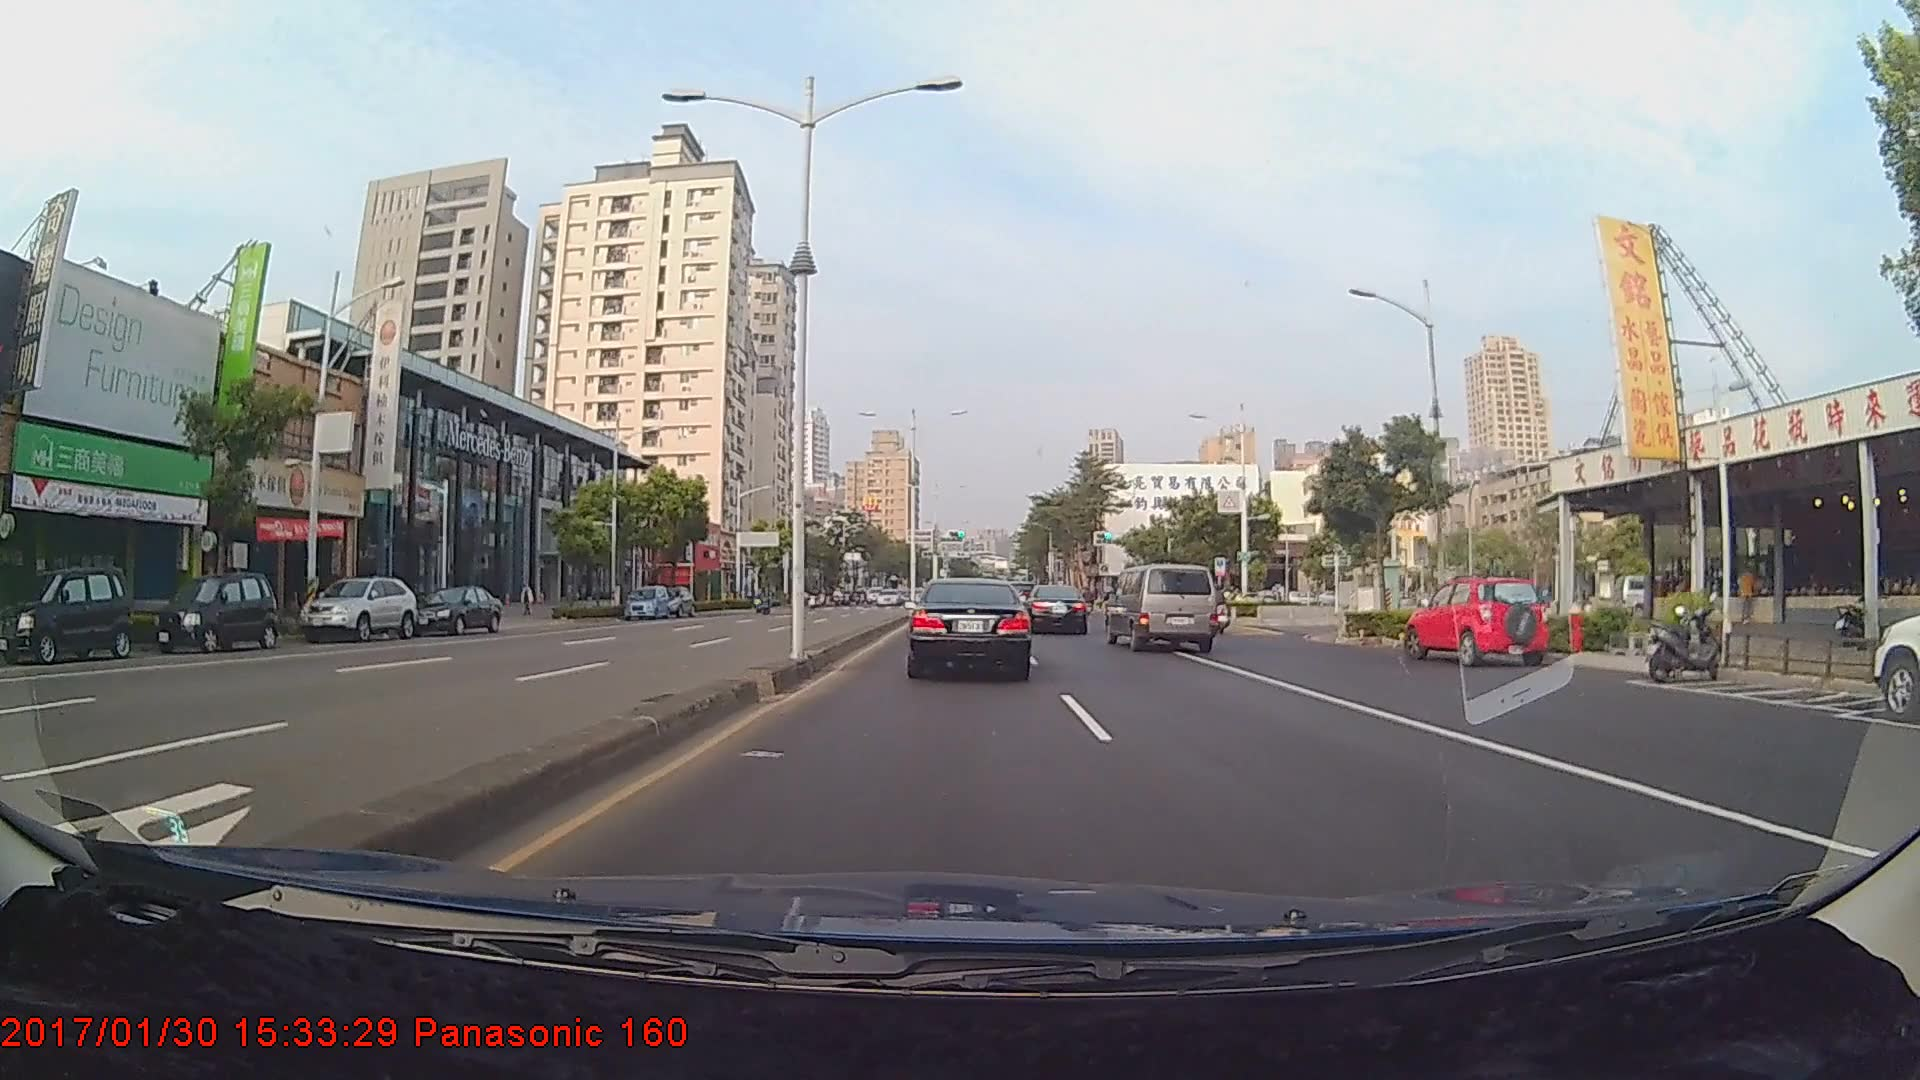pedestrian: (1739, 561, 1763, 632)
vehicle: (905, 575, 1032, 680), (0, 568, 133, 666), (1410, 574, 1543, 669), (1104, 562, 1217, 652), (303, 575, 418, 644), (192, 574, 275, 652), (412, 582, 500, 634), (1025, 583, 1090, 635), (623, 582, 670, 620), (653, 584, 696, 617)
